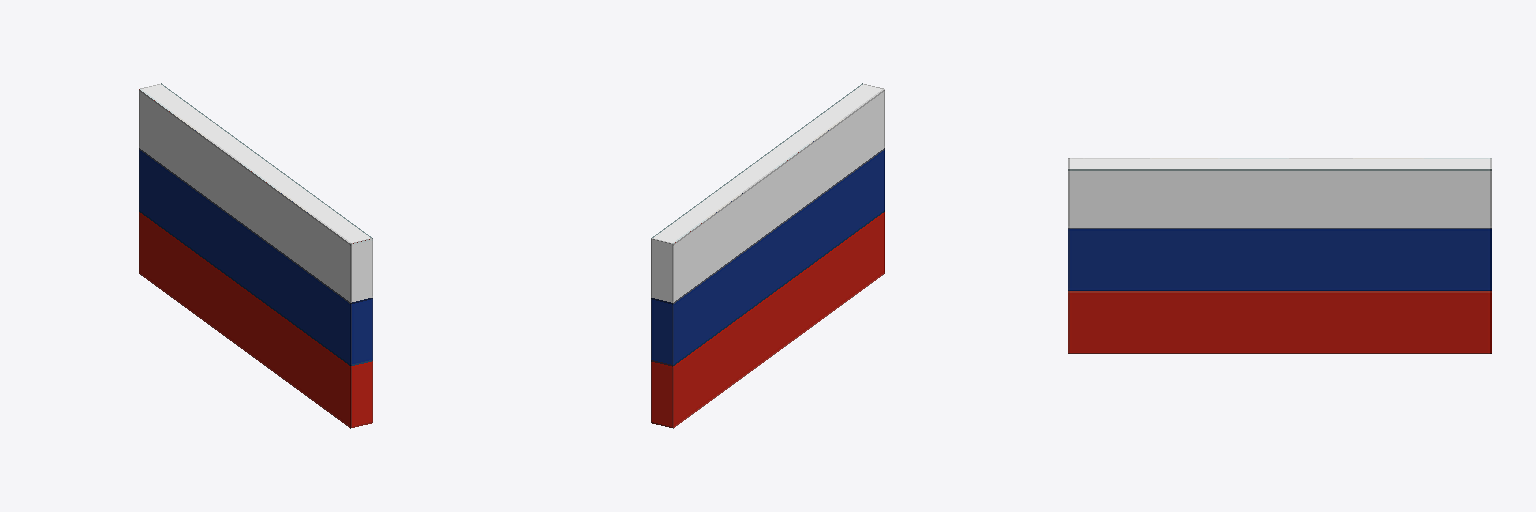
The picture shows the model from 3 angles: view 1: azimuth 30°, elevation 25°; view 2: azimuth 150°, elevation 25°; view 3: azimuth 270°, elevation 25°; orthographic projection.
Parts seen in each view (by area): view 1: Cube; view 2: Cube; view 3: Cube.
Boxes of the visible parts, x1,y1,x2,y2 form: Cube: [139, 83, 372, 428]; Cube: [651, 83, 884, 428]; Cube: [1068, 158, 1491, 353].
Size of the model in its own units: 0.258 by 2 by 4.16.
1 materials, 1 textured.